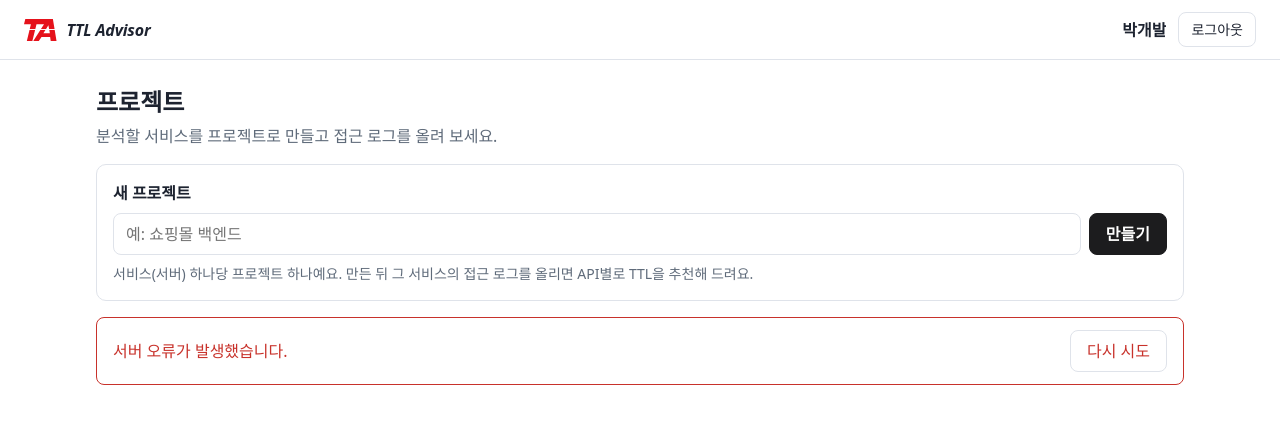
Test: 프로젝트 목록 화면 › 불러오기에 실패하면 에러와 다시 시도 버튼을 보여 주고, 다시 시도하면 목록을 보여 준다
Expected: the message shows "서버 오류가 발생했습니다.", top-left (113, 340), bottom-right (288, 362)
What coordinates should you click on to do the following:
click the button "다시 시도"
I would click on:
 (1118, 351)
Its box is top-left (1070, 330), bottom-right (1167, 372).
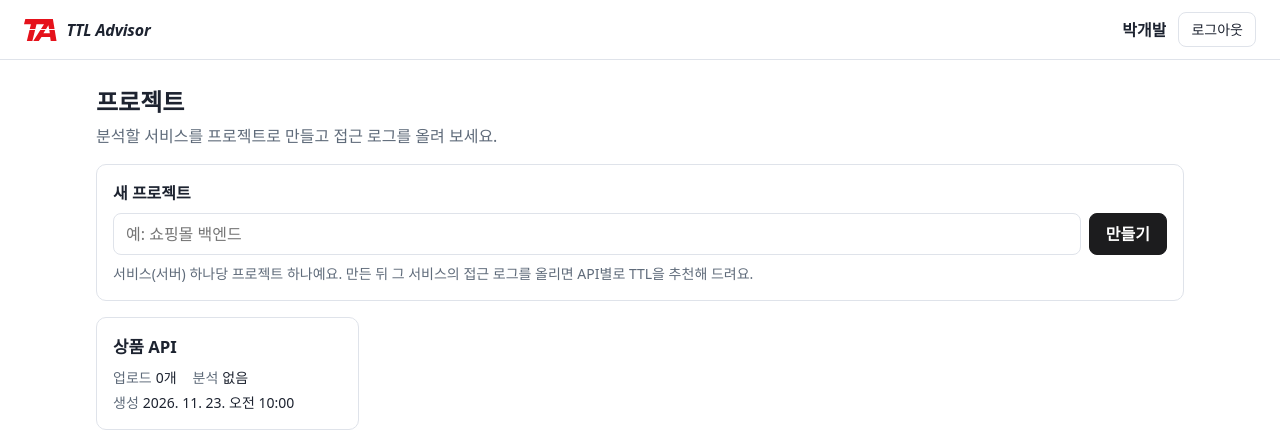
Expected: the link "상품 API" is shown, top-left (113, 335), bottom-right (177, 358)
